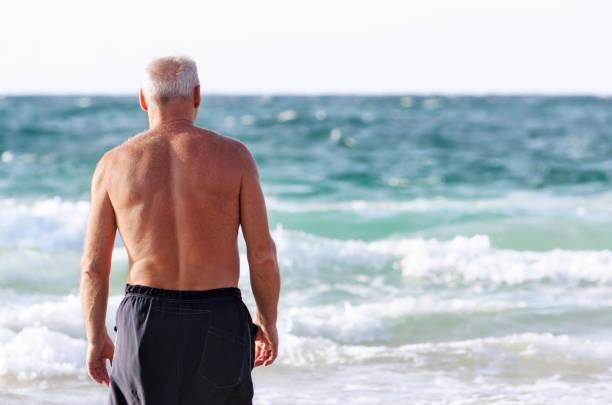Human: (62, 38, 304, 400)
